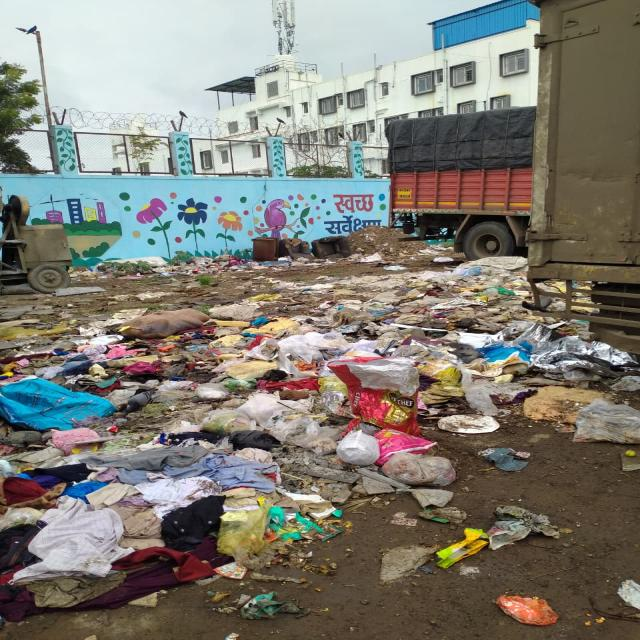garbage: (0, 305, 640, 594), (296, 258, 534, 305), (89, 256, 292, 276)
